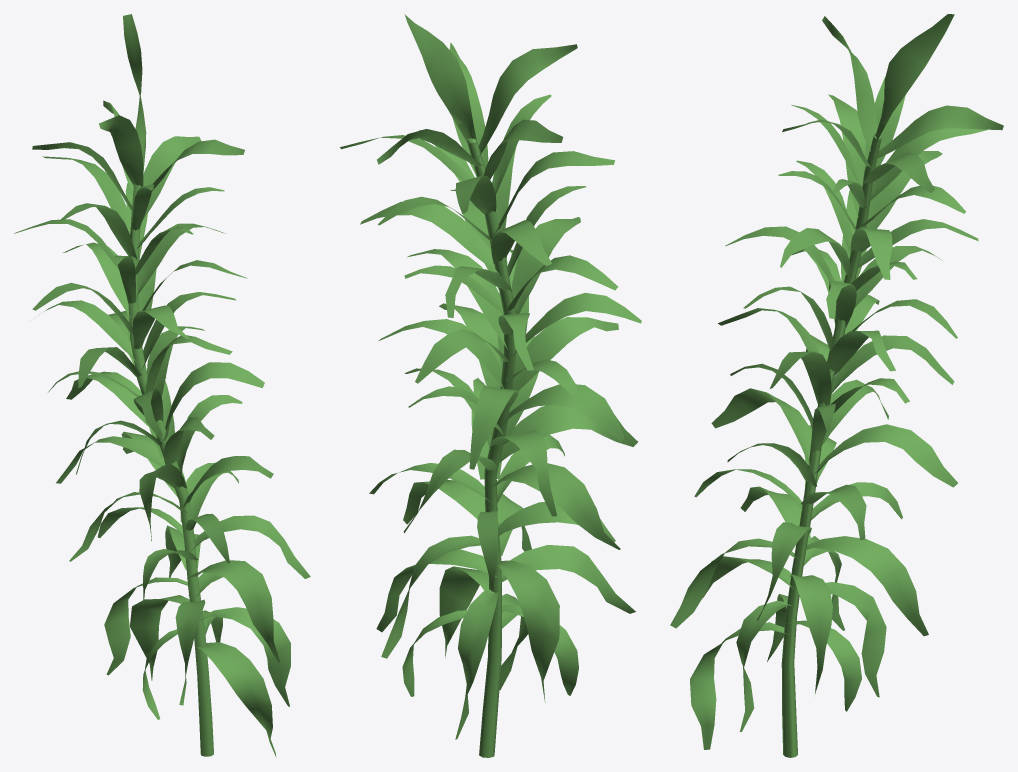
The model's file is SM_Dracaena_02.glb.
3 renders of one model, left to right at view 1: azimuth 30°, elevation 25°; view 2: azimuth 150°, elevation 25°; view 3: azimuth 270°, elevation 25°, orthographic. The views are drawn at different scales.
Visible parts, largest first — view 1: SM_Dracaena_02; view 2: SM_Dracaena_02; view 3: SM_Dracaena_02.
Part boxes in pixels (x1,y1,x2,y2): SM_Dracaena_02: (14, 14, 310, 757); SM_Dracaena_02: (340, 14, 641, 757); SM_Dracaena_02: (670, 14, 1003, 757).
Size of what is drawn, in the model's own units: 10.99 by 31.37 by 12.83.
